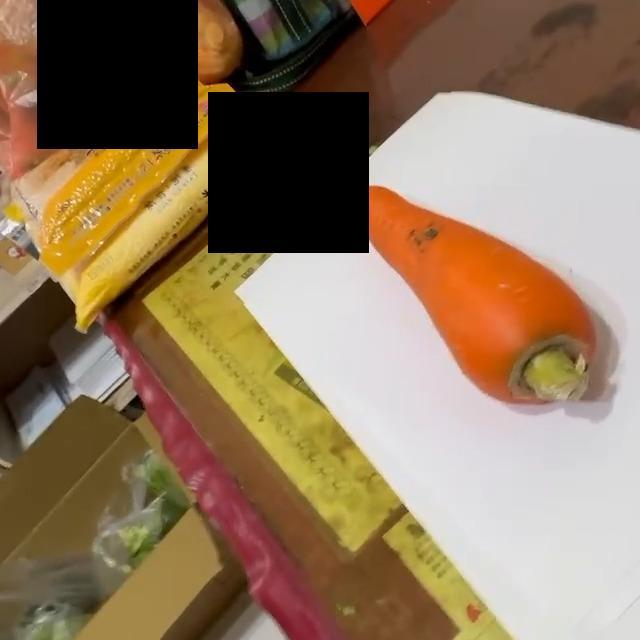carrot: (352, 186, 600, 409)
